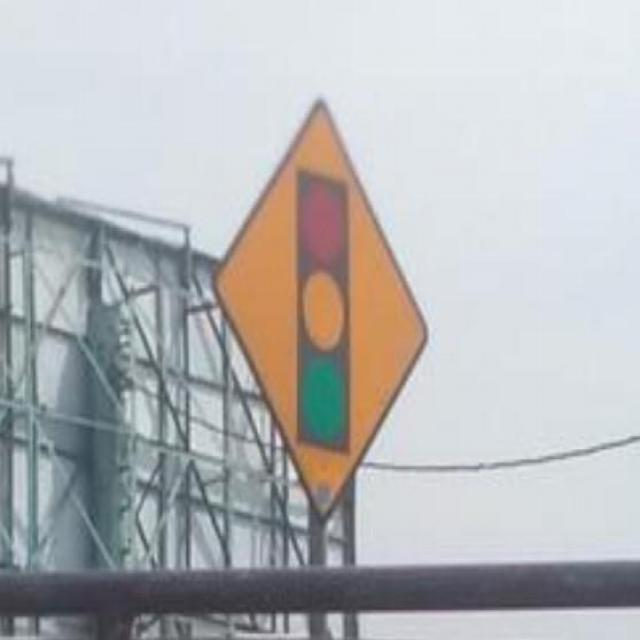traffic sign: (213, 104, 425, 513)
